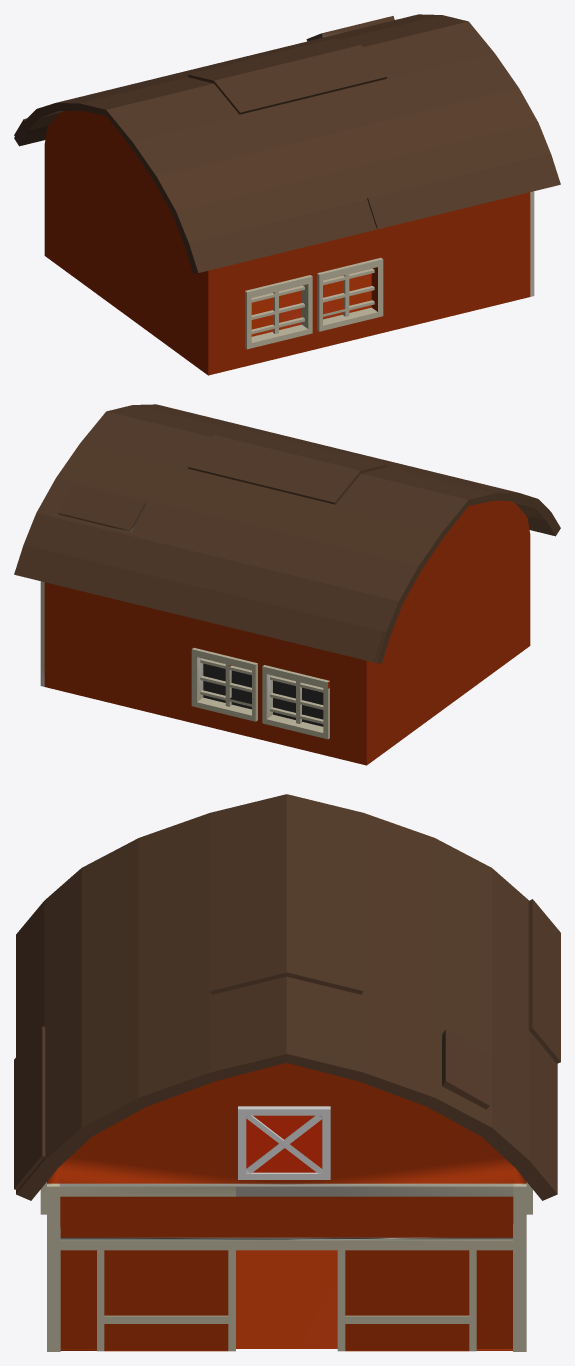
Rendered from Barn.fbx.
3 views of the same model, one above another, from view 1: azimuth 30°, elevation 25°; view 2: azimuth 150°, elevation 25°; view 3: azimuth 270°, elevation 25° (orthographic). The views are drawn at different scales.
Visible parts, largest first — view 1: Barn; view 2: Barn; view 3: Barn.
Boxes of the visible parts, x1=… form: Barn: x1=14, y1=14, x2=560, y2=375; Barn: x1=14, y1=404, x2=560, y2=765; Barn: x1=14, y1=794, x2=560, y2=1351.
Size of the model in its own units: 1576 by 887 by 1402.
